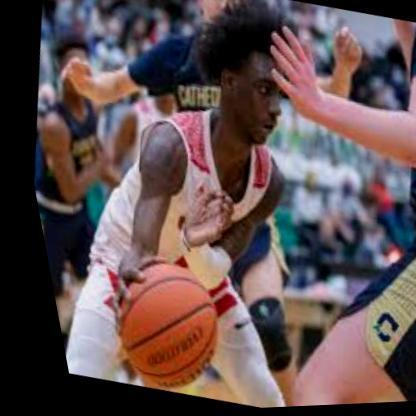basketball: (83, 252, 231, 403)
